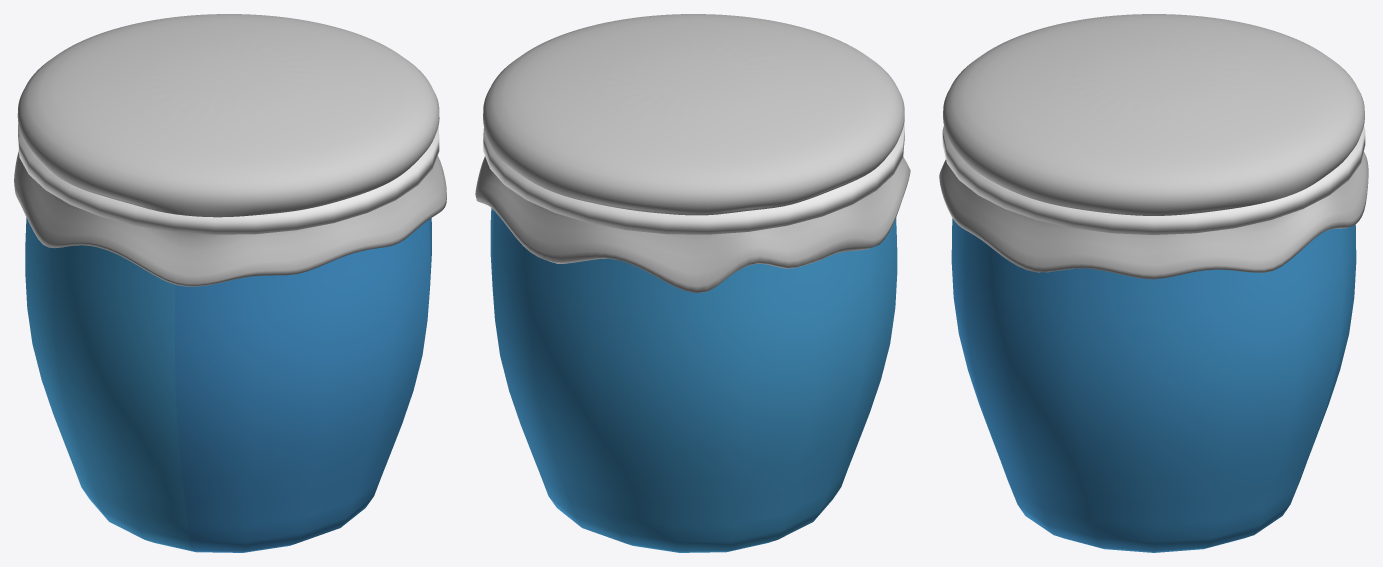
The model's file is HoneyBottle.fbx.
3 views of the same model, side by side, from view 1: azimuth 30°, elevation 25°; view 2: azimuth 150°, elevation 25°; view 3: azimuth 270°, elevation 25° (orthographic).
Parts seen in each view (by area): view 1: Honey Bottle; view 2: Honey Bottle; view 3: Honey Bottle.
Boxes of the visible parts, x1=… form: Honey Bottle: x1=14, y1=14, x2=446, y2=552; Honey Bottle: x1=475, y1=14, x2=910, y2=552; Honey Bottle: x1=939, y1=14, x2=1368, y2=552.
Bounding box in the file's own units: 222 × 247 × 221.
